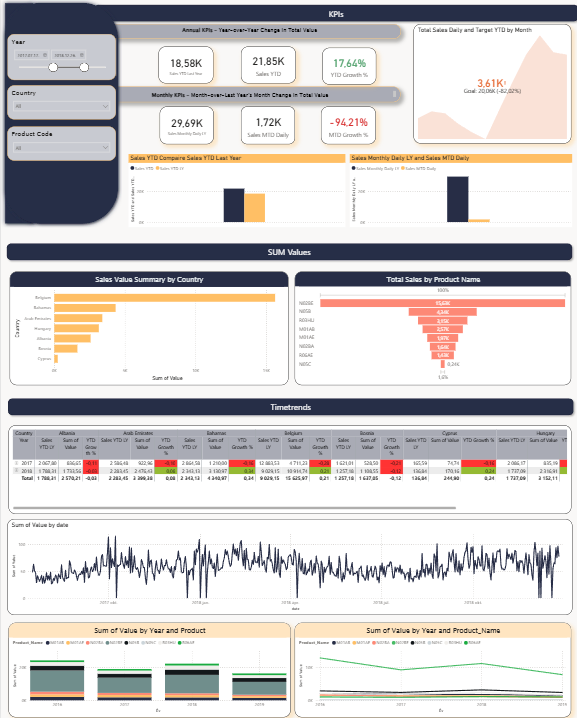

The page's visual inventory and layout, read from the dashboard file:
{"tool":"powerbi","page":{"name":"KPIs","canvas":[1600,2000],"ordinal":1},"visuals":[{"type":"shape","box":[0,41.2,1600,602],"z":0},{"type":"textbox","box":[223.5,241.2,878.4,49],"z":1000},{"type":"textbox","box":[266.7,68.6,835.3,52.9],"z":2000},{"type":"shape","box":[0,505.9,1600,1494.1],"z":3000},{"type":"shape","box":[0,0,333.3,629.4],"z":4000},{"type":"card","fields":{"Values":["salesdaily_clean.Sales MTD Daily"]},"box":[662.7,296.1,149,103.9],"z":8000},{"type":"card","fields":{"Values":["salesdaily_clean.Sales Monthly Daily LY"]},"box":[437.3,296.1,149,103.9],"z":9000},{"type":"clusteredColumnChart","fields":{"Y":["salesdaily_clean.Sales Monthly Daily LY","salesdaily_clean.Sales MTD Daily"]},"box":[960.8,427.5,613.7,202],"z":10000},{"type":"card","fields":{"Values":["salesdaily_clean.Sales YTD"]},"box":[660.8,131.4,151,102],"z":11000},{"type":"card","fields":{"Values":["salesdaily_clean.Sales YTD LY"]},"box":[435.3,131.4,151,102],"z":12000},{"type":"card","fields":{"Values":["salesdaily_clean.YTD Growth %"]},"box":[886.3,135.3,149,102],"z":13000},{"type":"clusteredColumnChart","title":"Sales YTD Compaire Sales YTD Last Year","fields":{"Y":["salesdaily_clean.Sales YTD","salesdaily_clean.Sales YTD LY"]},"box":[352.9,427.5,598,202],"z":14000},{"type":"funnel","title":"Total Sales by Product Name","fields":{"Y":["salesdaily_clean.Total Sales Daily"],"Category":["salesdaily_clean.Product_Name"]},"box":[811.8,751,762.7,313.7],"z":15000},{"type":"clusteredBarChart","title":"Sales Value Summary by Country","fields":{"Category":["countrycodes.Country"],"Y":["Sum(salesdaily_clean.Value)"]},"box":[23.5,751,768.6,313.7],"z":16000},{"type":"lineChart","fields":{"Category":["salesdaily_clean.date"],"Y":["Sum(salesdaily_clean.Value)"]},"box":[15.7,1435.3,1558.8,264.7],"z":17000},{"type":"columnChart","title":"Sum of Value by Year and Product","fields":{"Category":["date_table.Date.Változat.Dátumhierarchia.Év","date_table.Date.Változat.Dátumhierarchia.Negyedév","date_table.Date.Változat.Dátumhierarchia.Hónap","date_table.Date.Változat.Dátumhierarchia.Nap"],"Y":["Sum(salesdaily_clean.Value)"],"Series":["salesdaily_clean.Product_Name"]},"box":[21.6,1721.6,778.4,260.8],"z":18000},{"type":"lineChart","title":"Sum of Value by Year and Product_Name","fields":{"Category":["date_table.Date.Változat.Dátumhierarchia.Év","date_table.Date.Változat.Dátumhierarchia.Negyedév","date_table.Date.Változat.Dátumhierarchia.Hónap","date_table.Date.Változat.Dátumhierarchia.Nap"],"Y":["Sum(salesdaily_clean.Value)"],"Series":["salesdaily_clean.Product_Name"]},"box":[811.8,1719.6,762.7,260.8],"z":19000},{"type":"textbox","box":[266.7,0,1333.3,54.9],"z":20000},{"type":"textbox","box":[0,658.8,1533.3,64.7],"z":21000},{"type":"textbox","box":[0,1086.3,1533.3,62.7],"z":22000},{"type":"kpi","fields":{"Indicator":["salesdaily_clean.Total Sales Daily"],"Goal":["salesdaily_clean.Target YTD"],"TrendLine":["date_table.Month"]},"box":[1139.2,68.6,435.3,329.4],"z":23000},{"type":"card","fields":{"Values":["salesdaily_clean.MTD Daily Growth %"]},"box":[884.3,296.1,151,103.9],"z":25000},{"type":"pivotTable","fields":{"Rows":["date_table.Year","countrycodes.ProductCode"],"Values":["salesdaily_clean.Sales YTD LY","Sum(salesdaily_clean.Value)","salesdaily_clean.YTD Growth %"],"Columns":["countrycodes.Country"]},"box":[21.6,1174.5,1552.9,245.1],"z":26000},{"type":"shape","box":[0,1086.3,45.1,62.7],"z":27000},{"type":"shape","box":[0,0,60.8,54.9],"z":28000},{"type":"shape","box":[0,27.5,100,602],"z":28500},{"type":"shape","box":[0,660.8,64.7,62.7],"z":29000},{"type":"slicer","title":"Product Code","fields":{"Values":["countrycodes.ProductCode"]},"box":[15.7,351,300,94.1],"z":29500},{"type":"slicer","title":"Country","fields":{"Values":["countrycodes.Country"]},"box":[15.7,237.3,300,94.1],"z":30000},{"type":"slicer","title":"Year","fields":{"Values":["date_table.Date"]},"box":[15.7,96.1,300,127.5],"z":30500},{"type":"textbox","box":[0,0,362.7,54.9],"z":31000}]}

Visuals, with their boxes in screenshot pixels (x1, y1, x2, y2), scaled from the page's 1600x2000 canvas onto the 577x718 screenshot:
shape: (x1=0, y1=15, x2=576, y2=231)
textbox: (x1=81, y1=87, x2=397, y2=104)
textbox: (x1=96, y1=25, x2=397, y2=44)
shape: (x1=0, y1=182, x2=576, y2=717)
shape: (x1=0, y1=0, x2=120, y2=226)
card - salesdaily_clean.Sales MTD Daily: (x1=239, y1=106, x2=293, y2=144)
card - salesdaily_clean.Sales Monthly Daily LY: (x1=158, y1=106, x2=211, y2=144)
clusteredColumnChart - salesdaily_clean.Sales Monthly Daily LY x salesdaily_clean.Sales MTD Daily: (x1=346, y1=153, x2=568, y2=226)
card - salesdaily_clean.Sales YTD: (x1=238, y1=47, x2=293, y2=84)
card - salesdaily_clean.Sales YTD LY: (x1=157, y1=47, x2=211, y2=84)
card - salesdaily_clean.YTD Growth %: (x1=320, y1=49, x2=373, y2=85)
"Sales YTD Compaire Sales YTD Last Year" clusteredColumnChart: (x1=127, y1=153, x2=343, y2=226)
"Total Sales by Product Name" funnel: (x1=293, y1=270, x2=568, y2=382)
"Sales Value Summary by Country" clusteredBarChart: (x1=8, y1=270, x2=286, y2=382)
lineChart - salesdaily_clean.date x Sum(salesdaily_clean.Value): (x1=6, y1=515, x2=568, y2=610)
"Sum of Value by Year and Product" columnChart: (x1=8, y1=618, x2=288, y2=712)
"Sum of Value by Year and Product_Name" lineChart: (x1=293, y1=617, x2=568, y2=711)
textbox: (x1=96, y1=0, x2=576, y2=20)
textbox: (x1=0, y1=237, x2=553, y2=260)
textbox: (x1=0, y1=390, x2=553, y2=412)
kpi - salesdaily_clean.Total Sales Daily x salesdaily_clean.Target YTD: (x1=411, y1=25, x2=568, y2=143)
card - salesdaily_clean.MTD Daily Growth %: (x1=319, y1=106, x2=373, y2=144)
pivotTable - date_table.Year x countrycodes.ProductCode: (x1=8, y1=422, x2=568, y2=510)
shape: (x1=0, y1=390, x2=16, y2=412)
shape: (x1=0, y1=0, x2=22, y2=20)
shape: (x1=0, y1=10, x2=36, y2=226)
shape: (x1=0, y1=237, x2=23, y2=260)
"Product Code" slicer: (x1=6, y1=126, x2=114, y2=160)
"Country" slicer: (x1=6, y1=85, x2=114, y2=119)
"Year" slicer: (x1=6, y1=34, x2=114, y2=80)
textbox: (x1=0, y1=0, x2=131, y2=20)
